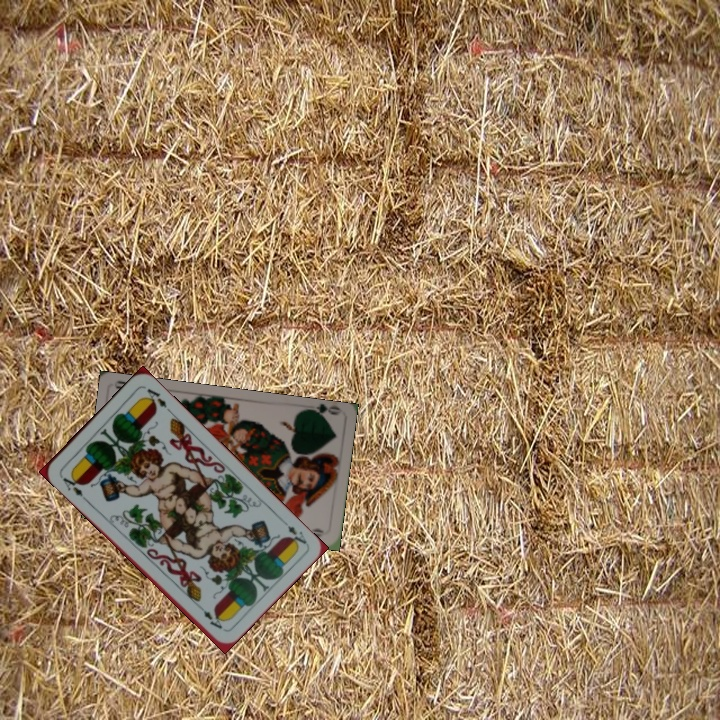EA: (56, 470, 89, 503), (278, 515, 309, 549)
GO: (300, 402, 341, 423)
